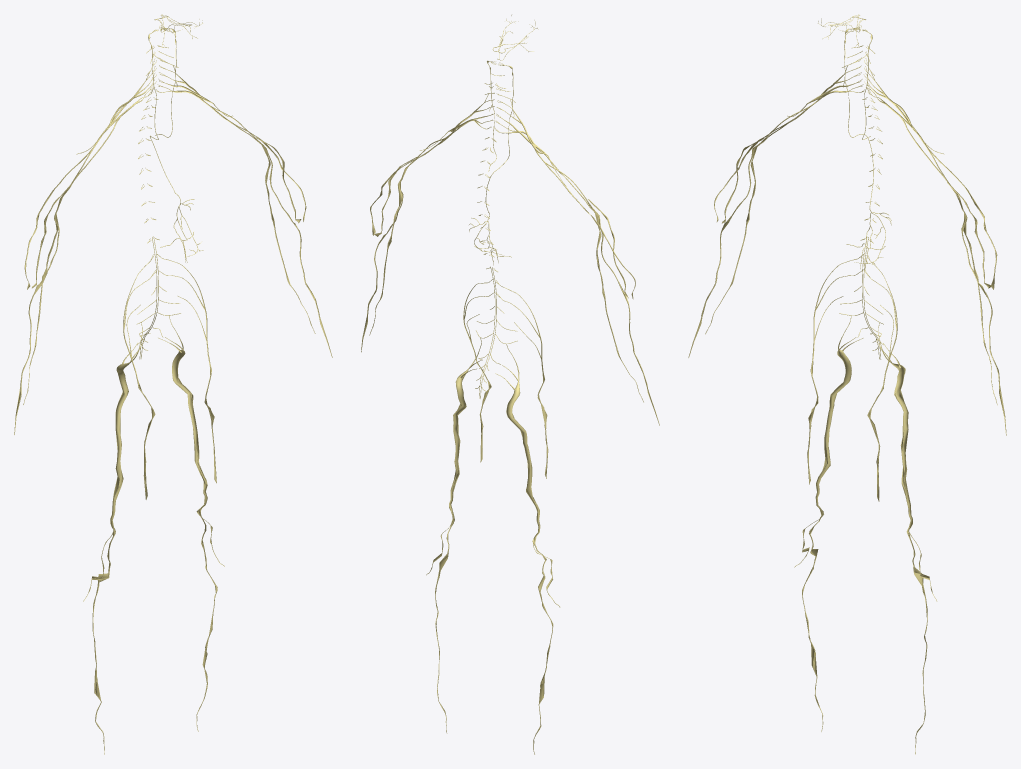
The model's file is zanatomy-nerves.glb.
3 views of the same model, side by side, from view 1: azimuth 30°, elevation 25°; view 2: azimuth 150°, elevation 25°; view 3: azimuth 330°, elevation 25° (orthographic). The views are drawn at different scales.
Visible parts, largest first — view 1: zn_sciatic_r, zn_sciatic_l, zn_vagus, zn_brachial_plexus, zn_femoral_r, zn_median_r, zn_femoral_l, zn_tibial_r; view 2: zn_sciatic_r, zn_sciatic_l, zn_brachial_plexus, zn_vagus, zn_femoral_r; view 3: zn_sciatic_l, zn_sciatic_r, zn_vagus, zn_brachial_plexus, zn_femoral_l, zn_femoral_r, zn_median_l.
Part boxes in pixels (x1,y1,x2,y2): zn_sciatic_r: (110,322,142,527); zn_sciatic_l: (158,315,207,504); zn_vagus: (148,27,203,262); zn_brachial_plexus: (100,62,211,136); zn_femoral_r: (123,260,155,499); zn_median_r: (14,131,104,434); zn_femoral_l: (162,258,216,483); zn_tibial_r: (92,528,115,754); zn_sciatic_r: (495,344,540,532); zn_sciatic_l: (449,338,481,511); zn_brachial_plexus: (442,93,548,167); zn_vagus: (469,60,514,265); zn_femoral_r: (499,284,548,478); zn_sciatic_l: (878,323,912,527); zn_sciatic_r: (815,315,863,505); zn_vagus: (843,27,891,271); zn_brachial_plexus: (808,62,920,136); zn_femoral_l: (867,261,897,501); zn_femoral_r: (807,258,858,484); zn_median_l: (916,131,1006,435).
Bounding box in the file's own units: 0.6786 × 1.53 × 0.1747.
